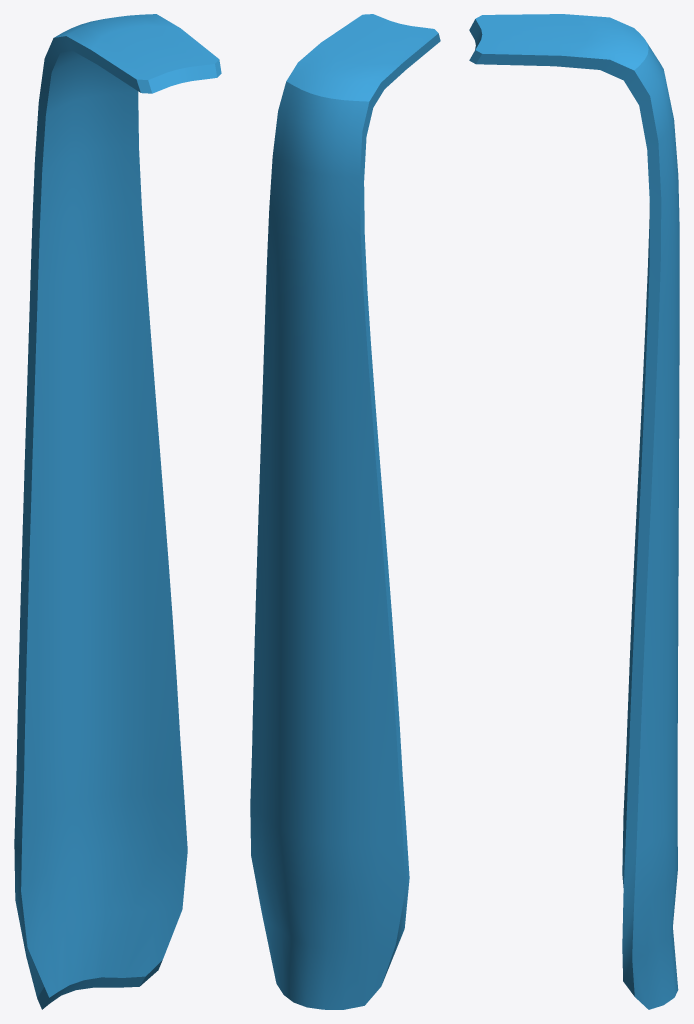
The model's file is Waterfall.fbx.
3 renders of one model, left to right at view 1: azimuth 30°, elevation 25°; view 2: azimuth 150°, elevation 25°; view 3: azimuth 270°, elevation 25°, orthographic. The views are drawn at different scales.
Parts seen in each view (by area): view 1: Waterfall; view 2: Waterfall; view 3: Waterfall.
Boxes of the visible parts, <box> form: Waterfall: <box>14,14,221,1009</box>; Waterfall: <box>250,14,440,1009</box>; Waterfall: <box>469,14,679,1009</box>.
Bounding box in the file's own units: 393 × 2234 × 446.
